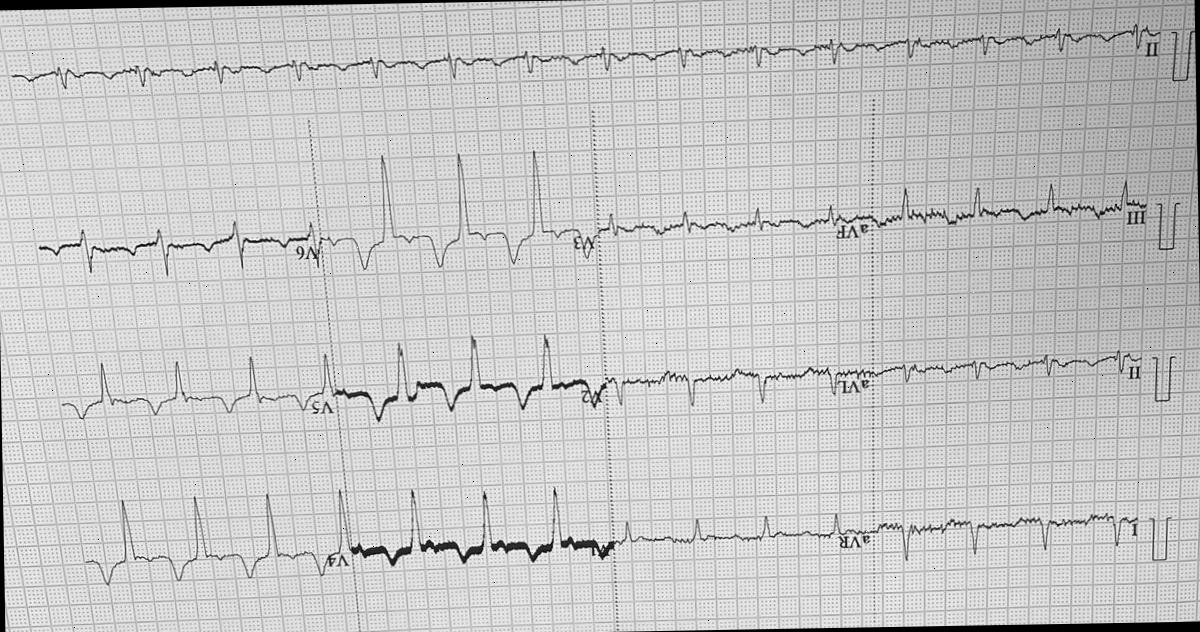Lead_I: (878, 489, 1148, 571)
Lead_II: (877, 334, 1151, 411)
Lead_III: (870, 169, 1154, 258)
Lead_II_ext: (1, 1, 1164, 114)
Lead_V1: (335, 461, 616, 593)
Lead_V2: (333, 326, 611, 430)
Lead_V3: (320, 133, 598, 281)
Lead_V4: (66, 472, 360, 612)
Lead_V5: (52, 346, 338, 442)
Lead_V6: (33, 202, 326, 294)
Lead_aVF: (592, 188, 873, 262)
Lead_aVL: (602, 350, 878, 416)
Lead_aVR: (616, 499, 879, 581)
